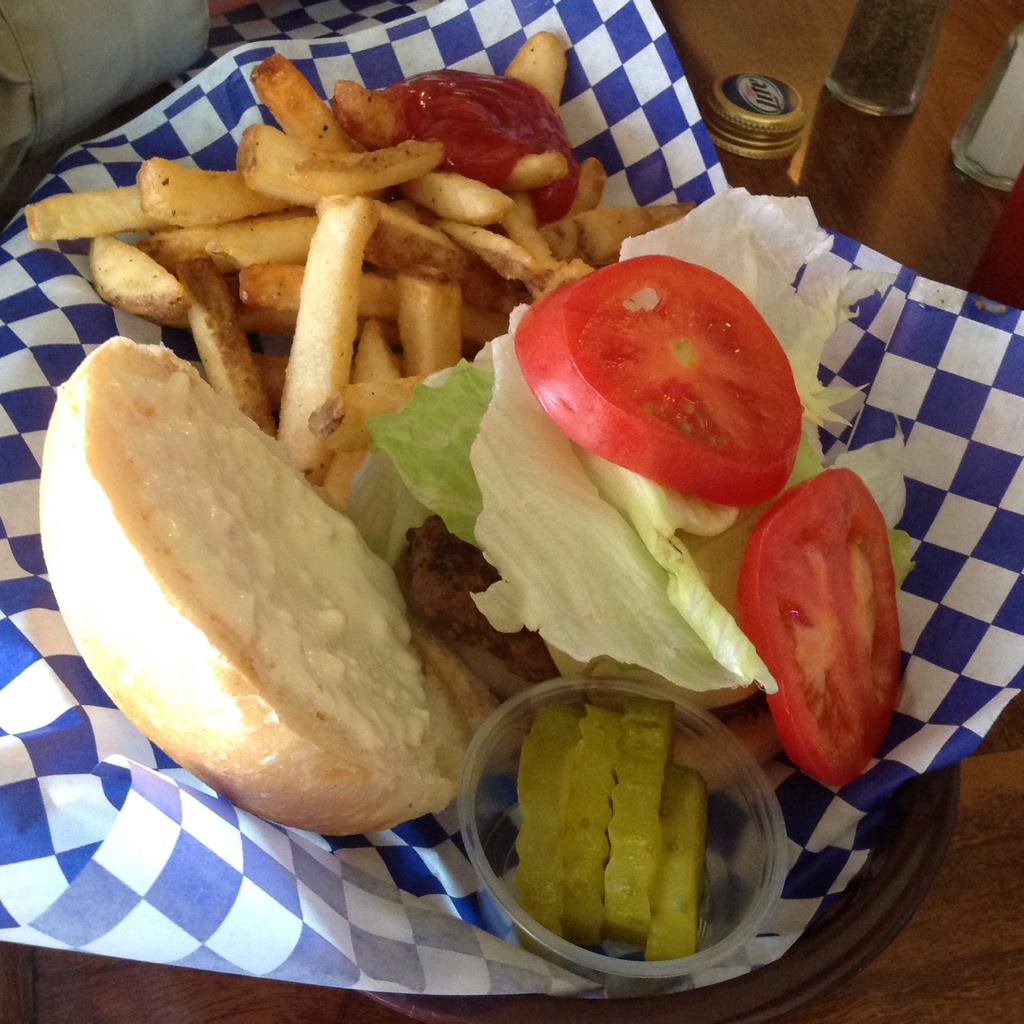French fries: (64, 156, 760, 885)
